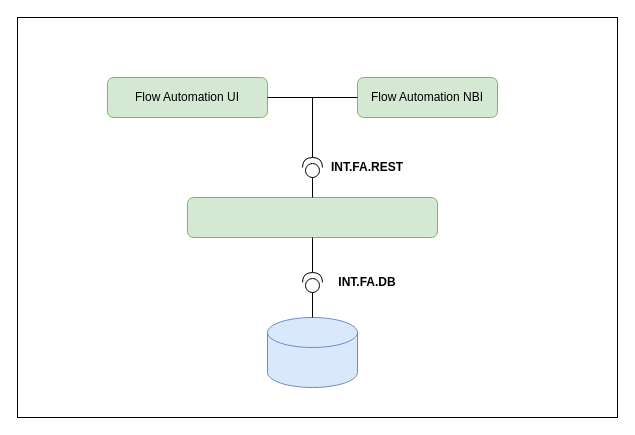
Some shapes in this 635 by 435 pixel diagram are drawn without their labels. Each missing label, with the box of its shape:
Flow Automation Service: (186, 196, 438, 238)
PG Database: (266, 316, 358, 388)
